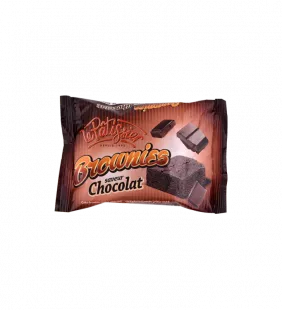LE PATISSIER: (43, 90, 237, 221)
